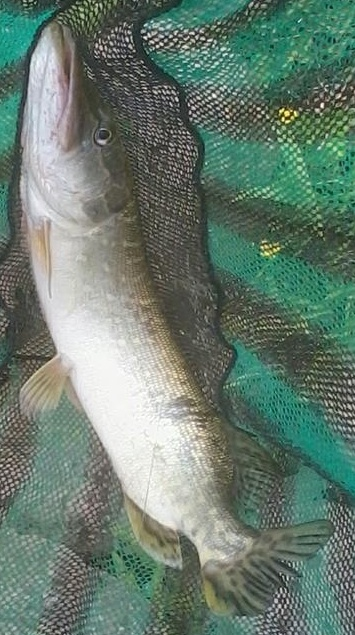Esox lucius: (20, 20, 335, 615)
